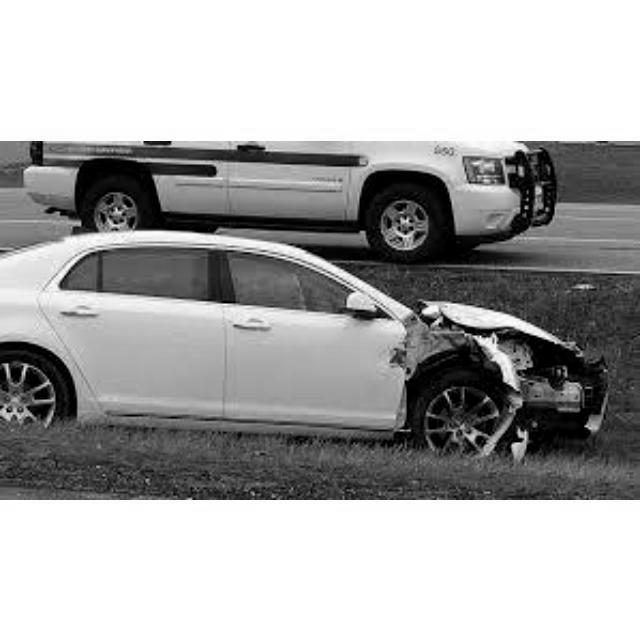fender-dent: (407, 290, 518, 360)
front-bumper-dent: (560, 361, 617, 427)
